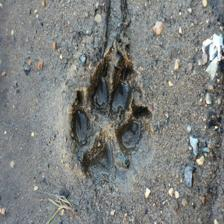wolf: (65, 49, 155, 190)
